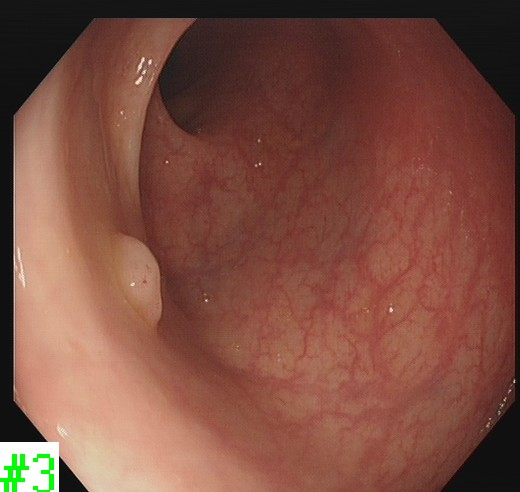adenoma: (105, 229, 165, 334)
